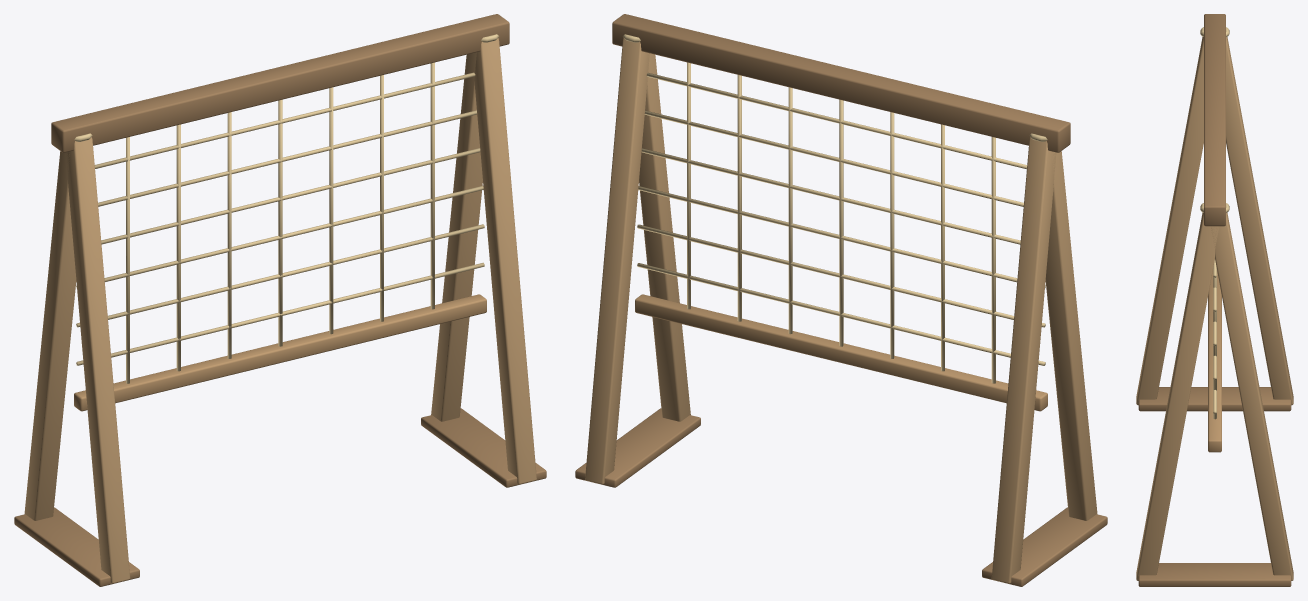
Rendered from estrutura_rede.glb.
The picture shows the model from 3 angles, left to right: view 1: azimuth 30°, elevation 25°; view 2: azimuth 150°, elevation 25°; view 3: azimuth 270°, elevation 25°; orthographic projection. The views are drawn at different scales.
Visible parts, largest first — view 1: estrutura_rede; view 2: estrutura_rede; view 3: estrutura_rede.
Boxes of the visible parts, box(x1,y1,x2,y2) form: estrutura_rede: box(14, 14, 546, 586); estrutura_rede: box(575, 14, 1107, 586); estrutura_rede: box(1136, 14, 1293, 586).
Bounding box in the file's own units: 3.3 × 3.04 × 1.13.
